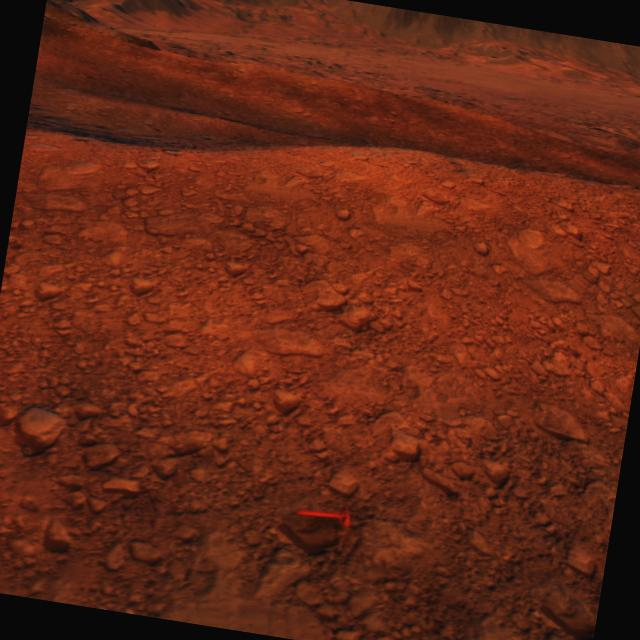newhammer: (296, 498, 352, 528)
